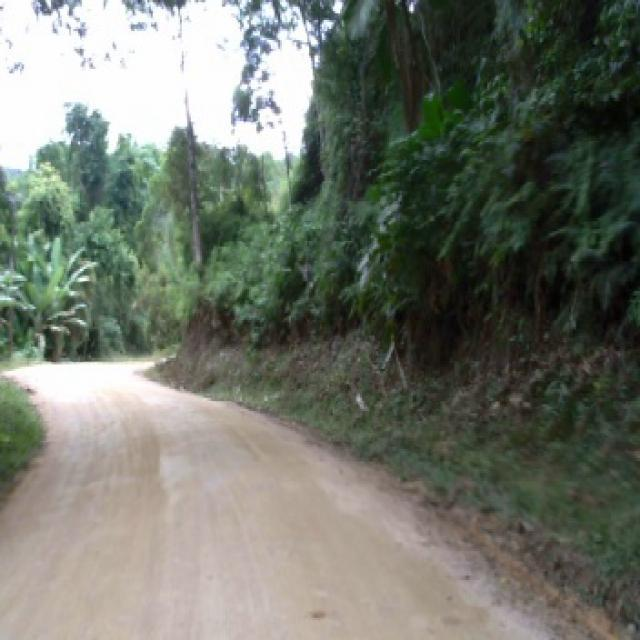Poth-hole: (416, 486, 636, 636)
